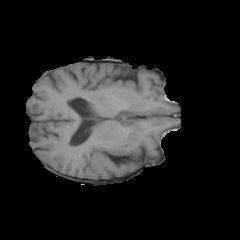glioma: (85, 142, 135, 165)
